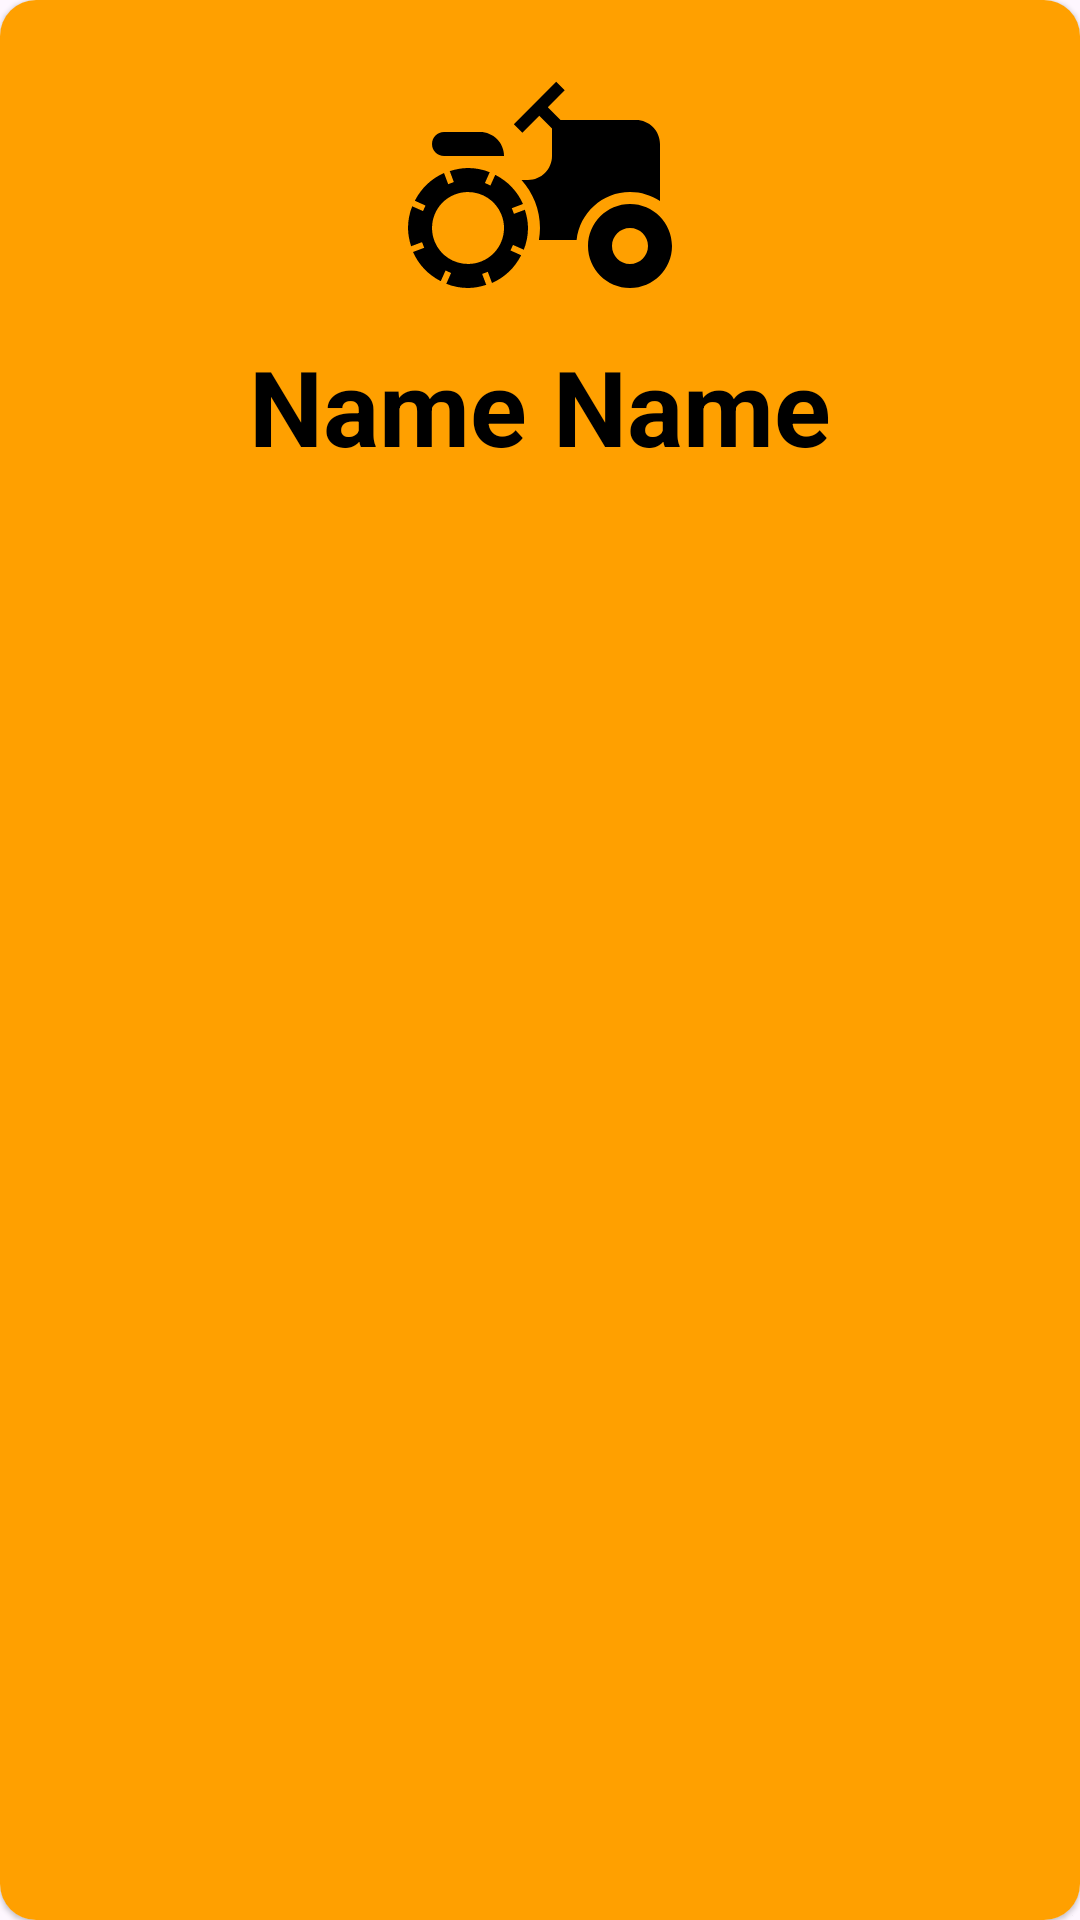

Named icons in this screenshot (1080x1920) and their bounding boxes, (x1,y1,x2,y2):
agriculture: (408,82,672,288)
